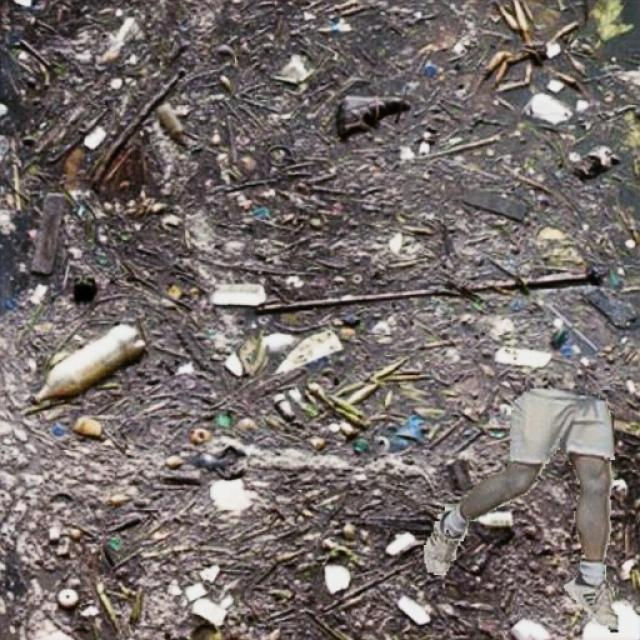Person in Rubble: (423, 388, 618, 632)
